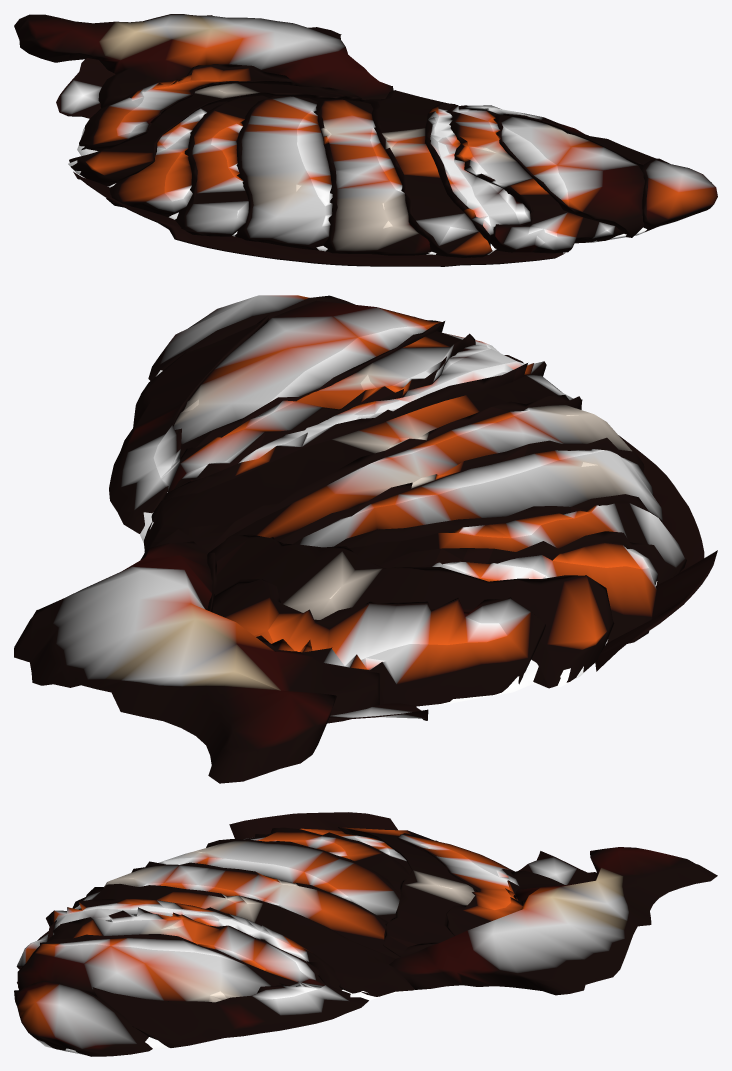
The model's file is SM_D19_wok.fbx.
The picture shows the model from 3 angles, top to bottom: view 1: azimuth 30°, elevation 25°; view 2: azimuth 150°, elevation 25°; view 3: azimuth 270°, elevation 25°; orthographic projection. The views are drawn at different scales.
Parts seen in each view (by area): view 1: SM_D19_wok; view 2: SM_D19_wok; view 3: SM_D19_wok.
Part boxes in pixels (left/top/right/bottom): SM_D19_wok: left=14, top=14, right=717, bottom=266; SM_D19_wok: left=14, top=295, right=717, bottom=783; SM_D19_wok: left=14, top=812, right=717, bottom=1056.
Size of the model in its own units: 0.2104 by 0.022 by 0.2773.
